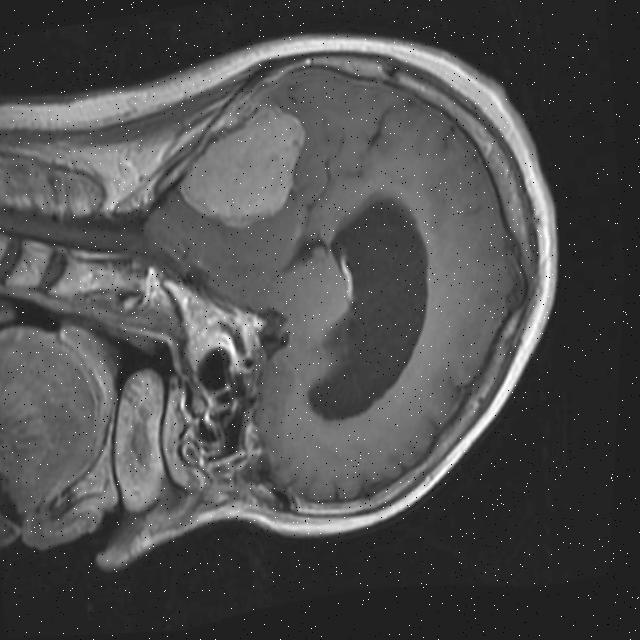Meningioma: (165, 96, 318, 239)
